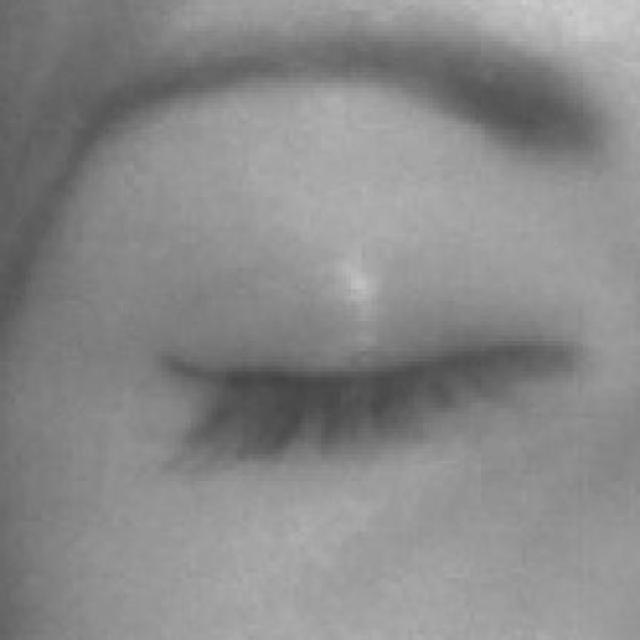drowsy: (130, 174, 608, 564)
